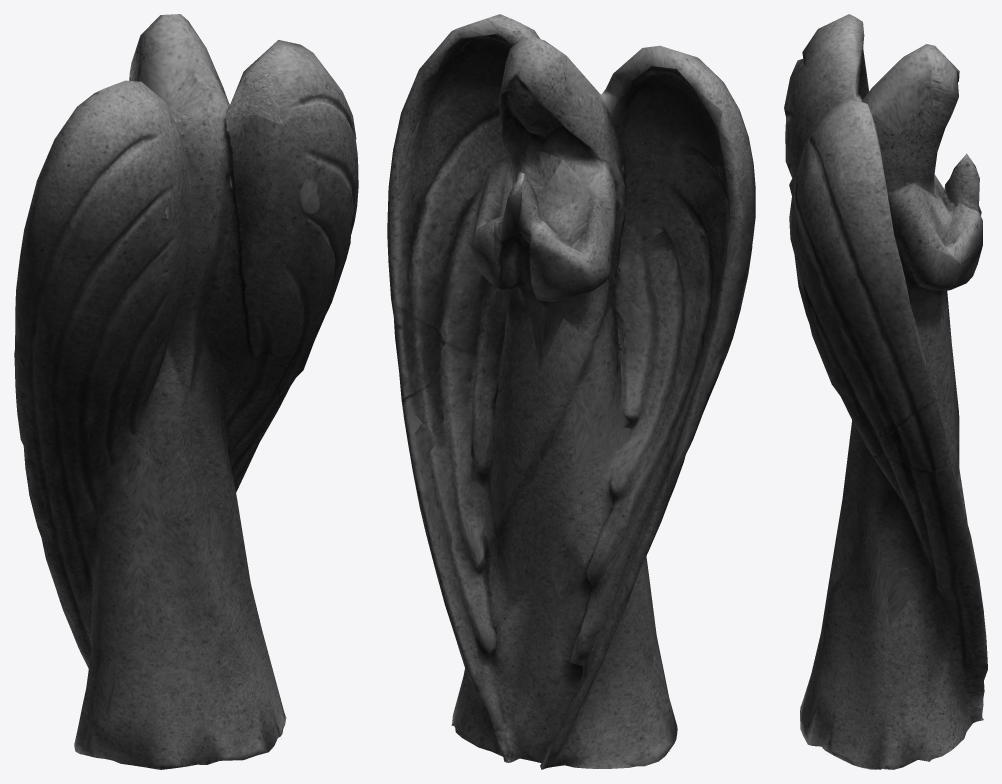
Rendered from angel.glb.
3 renders of one model, left to right at view 1: azimuth 30°, elevation 25°; view 2: azimuth 150°, elevation 25°; view 3: azimuth 270°, elevation 25°, orthographic. The views are drawn at different scales.
Parts seen in each view (by area): view 1: angel; view 2: angel; view 3: angel.
Boxes of the visible parts, x1,y1,x2,y2 form: angel: (14,14,358,769); angel: (387,14,755,769); angel: (784,14,987,769).
Size of the model in its own units: 2.8 by 5.64 by 1.52.
Materials: 1 (1 with a texture image).
